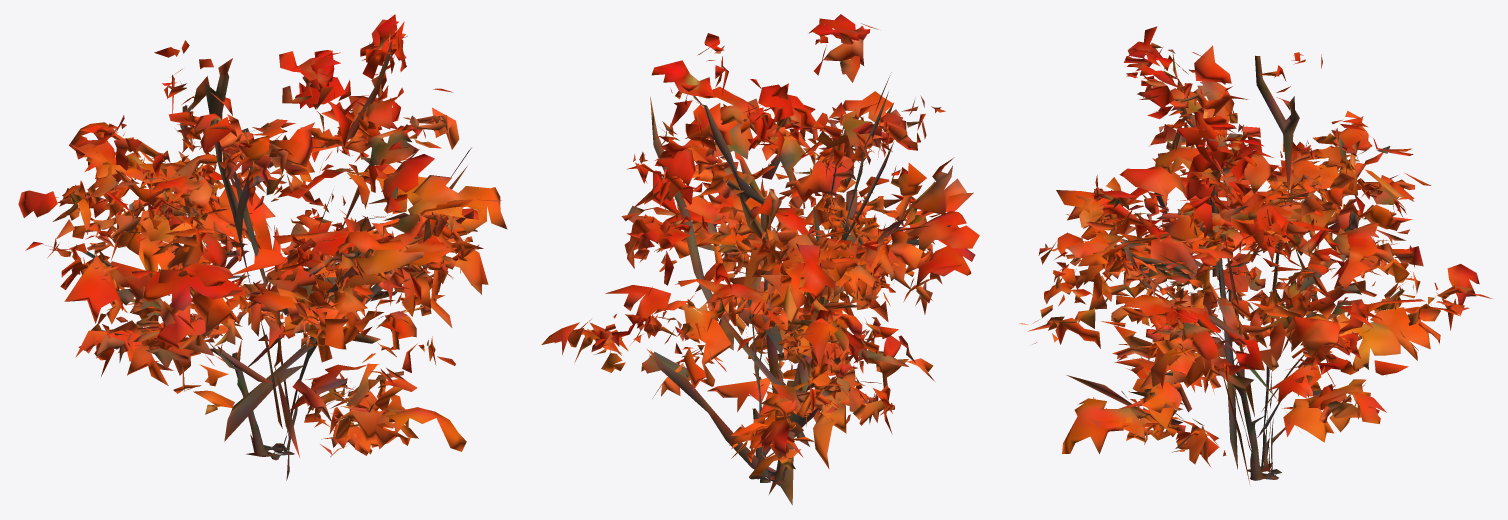
The model's file is tree_13_autumn_scarlet.glb.
3 views of the same model, side by side, from view 1: azimuth 30°, elevation 25°; view 2: azimuth 150°, elevation 25°; view 3: azimuth 270°, elevation 25° (orthographic). The views are drawn at different scales.
Parts seen in each view (by area): view 1: geometry_0; view 2: geometry_0; view 3: geometry_0.
Boxes of the visible parts, x1,y1,x2,y2 form: geometry_0: (18,14,507,480); geometry_0: (541,14,979,505); geometry_0: (1019,26,1492,484).
Size of the model in its own units: 0.8135 by 1 by 0.9515.
1 material, 1 textured.
